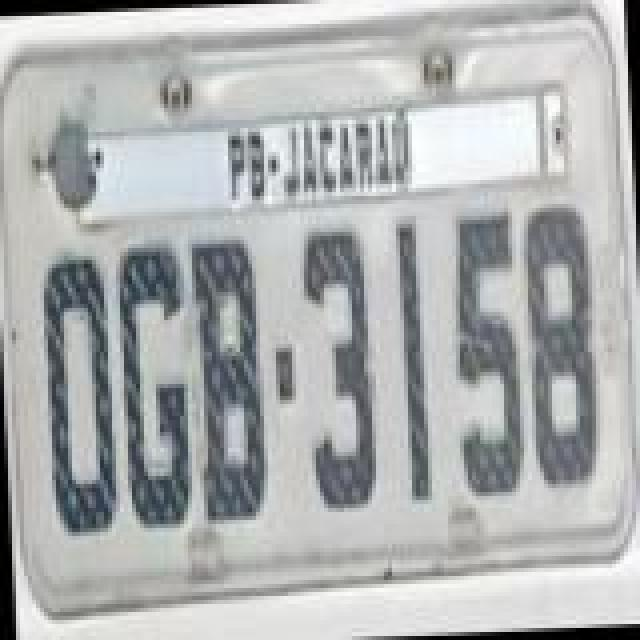1: (396, 222, 436, 514)
3: (294, 220, 378, 516)
5: (446, 208, 530, 504)
8: (518, 196, 602, 492)
B: (186, 236, 270, 532)
G: (110, 236, 194, 532)
O: (38, 256, 122, 544)
